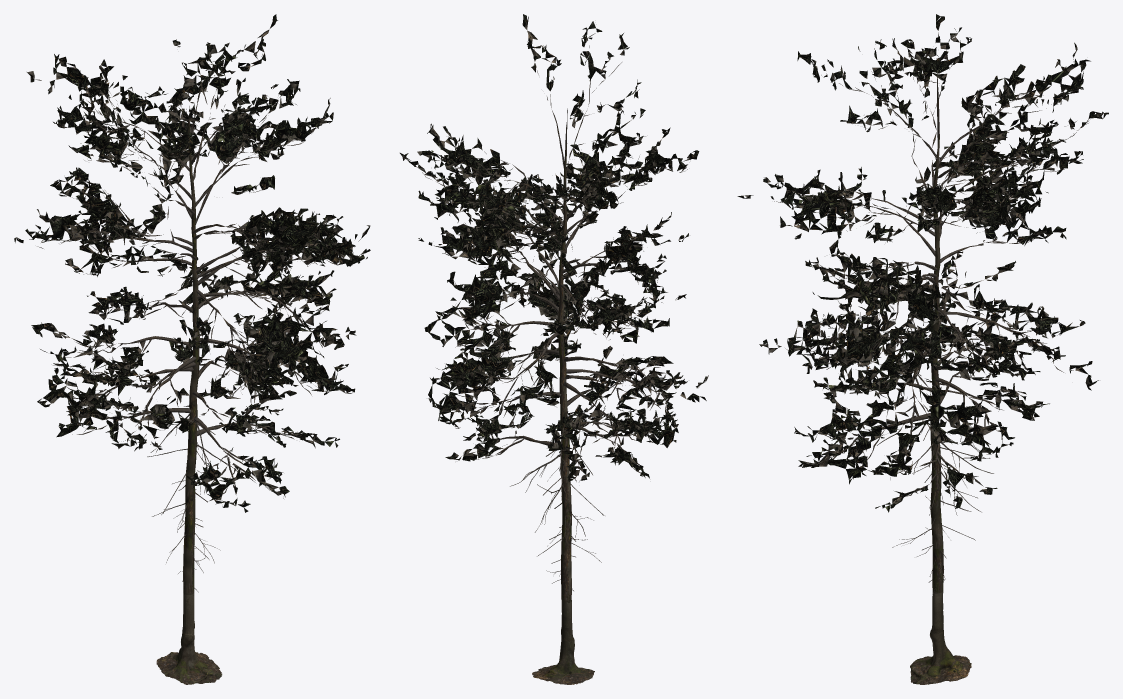
File: pine_tree_01_medium.glb
3 renders of one model, left to right at view 1: azimuth 30°, elevation 25°; view 2: azimuth 150°, elevation 25°; view 3: azimuth 270°, elevation 25°, orthographic. The views are drawn at different scales.
Size of the model in its own units: 7.14 by 14.83 by 7.45.
4 materials, 4 textured.
